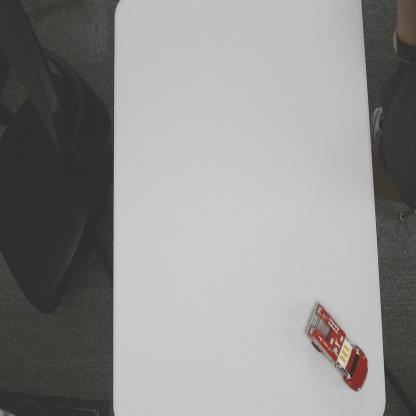Firetruck: (304, 300, 369, 394)
